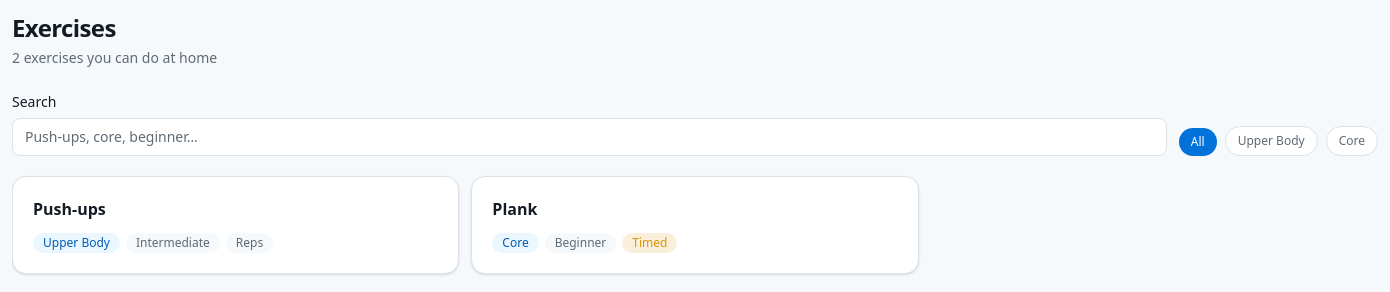
the exercise library › filters by search term
The image size is (1390, 292).
Expected: the text "Push-ups" is shown, [33, 198, 106, 220]
Type "plank" into the search field labelled "Search" at (589, 137), box [12, 118, 1167, 156]
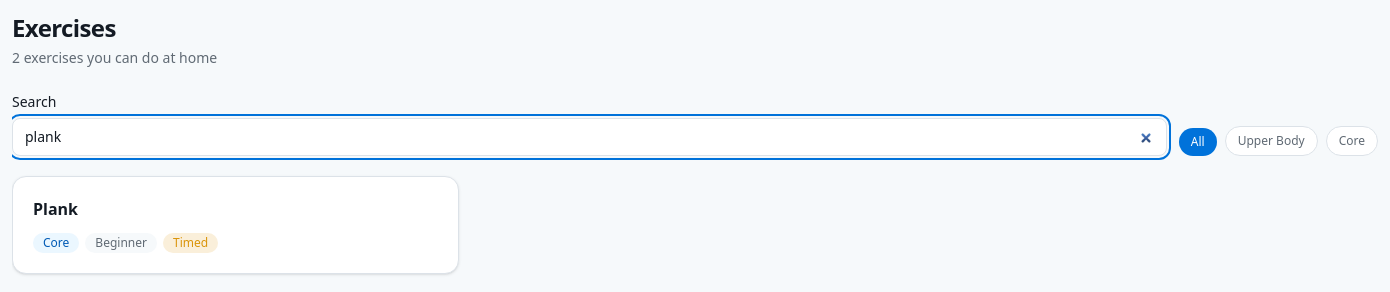
Expected: the text "Plank" is shown, [33, 198, 78, 220]
Expected: the link "Push-ups" is gone
